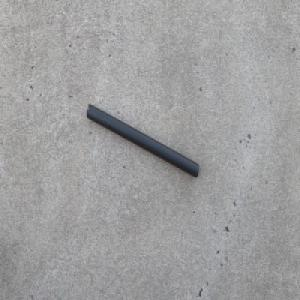LuggagePart: (86, 103, 199, 178)
